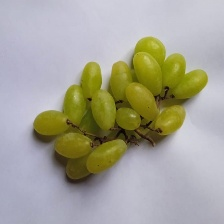grapes: (0, 33, 194, 224)
